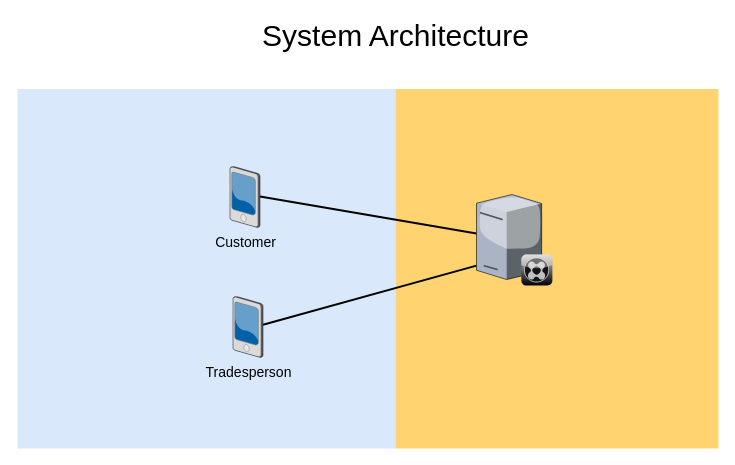
The diagram is 735 pixels wide and 465 high, and some of its shapes have lost their labels. Here are the shapes that lost their labels. From the top down, the box of each, then its label:
(17, 88, 395, 448): Clients
(395, 88, 718, 448): Server
